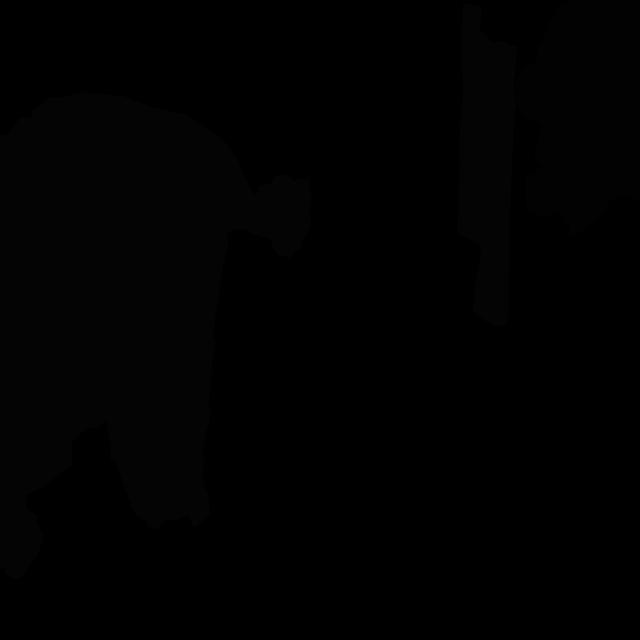cardboard: (514, 0, 640, 240)
soft_plastic: (0, 92, 312, 579), (457, 3, 517, 326)
